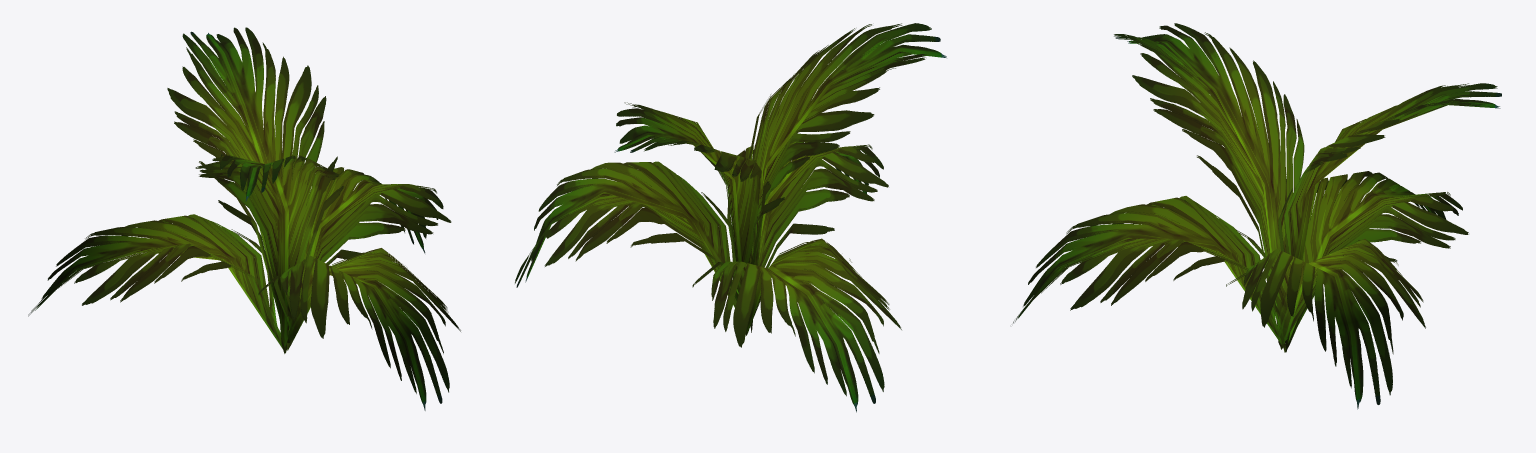
The model's file is StrangeTreeBushFoliage(2SideLeafs).fbx.
The picture shows the model from 3 angles, left to right: view 1: azimuth 30°, elevation 25°; view 2: azimuth 150°, elevation 25°; view 3: azimuth 270°, elevation 25°; orthographic projection. The views are drawn at different scales.
Parts seen in each view (by area): view 1: BushExticPlant01(2SideLeave); view 2: BushExticPlant01(2SideLeave); view 3: BushExticPlant01(2SideLeave).
Boxes of the visible parts, x1,y1,x2,y2 form: BushExticPlant01(2SideLeave): (28, 27, 460, 410); BushExticPlant01(2SideLeave): (515, 23, 946, 412); BushExticPlant01(2SideLeave): (1013, 23, 1501, 409).
Bounding box in the file's own units: 106 × 68.97 × 117.
